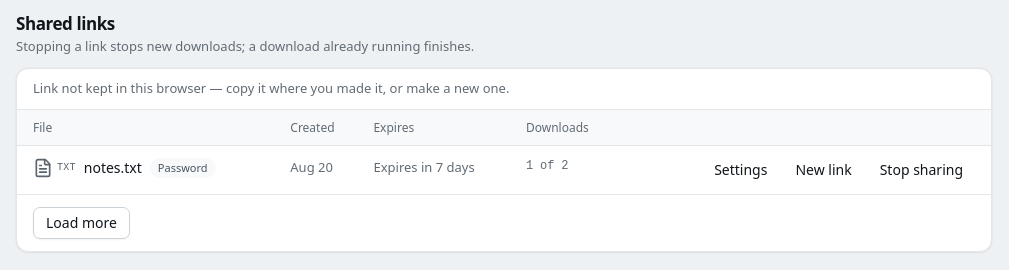
Test: the rows › pages with Load more rather than showing the first answer as the whole
The width and height of the screenshot is (1009, 270).
Check: the link "notes.txt" is shown, box [84,158,142,178]
Check: the number of rows with test id "share-row" is 1, box [17,146,991,194]
Click the button "Load more".
click(81, 223)  # box [33,207,130,239]
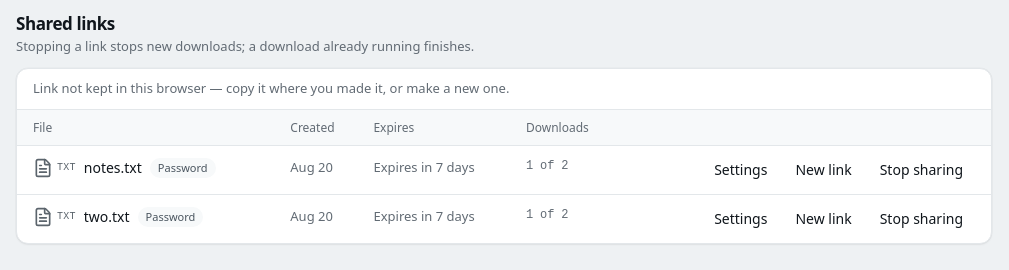
Check: the link "two.txt" is shown, box [84,207,130,227]
Check: the number of rows with test id "share-row" is 2, box [17,146,991,194]; [17,194,991,243]
Check: the button "Load more" is gone
